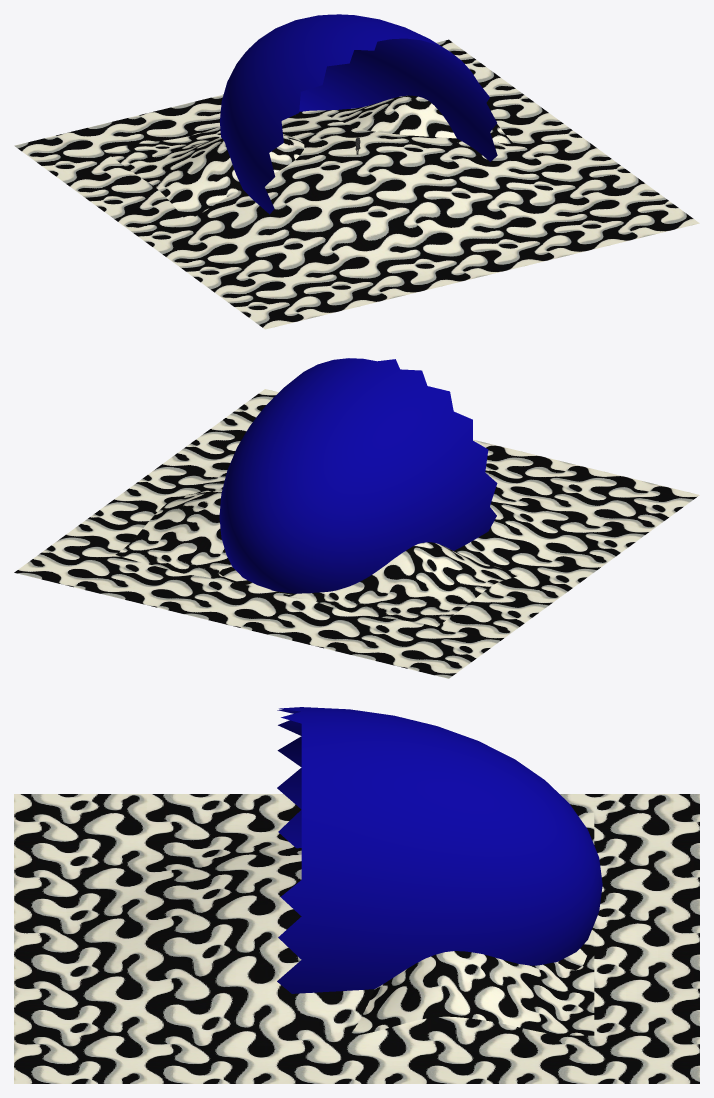
The model's file is IntroScene2.original.glb.
3 renders of one model, top to bottom at view 1: azimuth 30°, elevation 25°; view 2: azimuth 150°, elevation 25°; view 3: azimuth 270°, elevation 25°, orthographic. The views are drawn at different scales.
Parts seen in each view (by area): view 1: FLOOR_NEW, BG, main.001, main.004; view 2: FLOOR_NEW, BG, main.001, main.004; view 3: FLOOR_NEW, BG, main.004.
Boxes of the visible parts, box(x1,y1,x2,y2) form: FLOOR_NEW: box(14, 39, 699, 329); BG: box(219, 14, 497, 214); main.001: box(103, 127, 304, 220); main.004: box(299, 95, 513, 143); FLOOR_NEW: box(14, 389, 699, 678); BG: box(219, 358, 497, 593); main.001: box(283, 542, 519, 626); main.004: box(115, 490, 270, 590); FLOOR_NEW: box(14, 794, 699, 1083); BG: box(277, 707, 602, 993); main.004: box(351, 930, 594, 1035).
Size of the model in its own units: 29.86 by 15.48 by 29.86.
4 materials, 2 textured.
